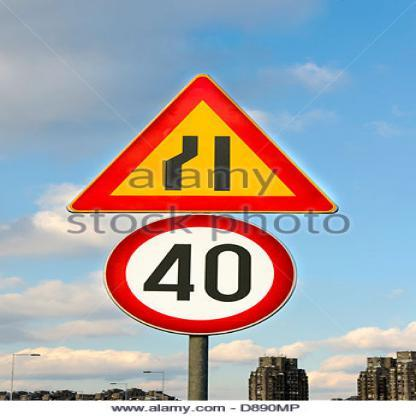Speed Limit 40: (109, 214, 297, 333)
